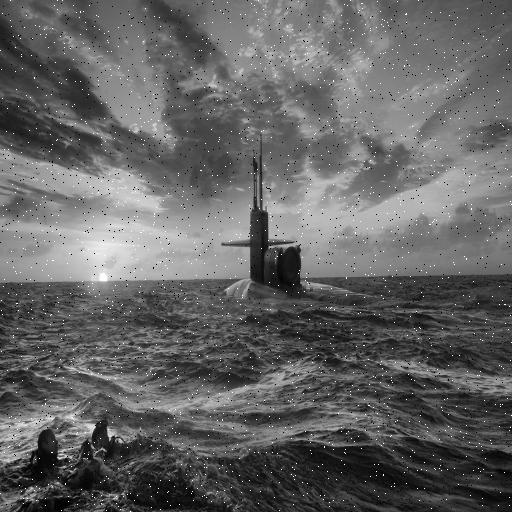submarine: (216, 130, 370, 307)
